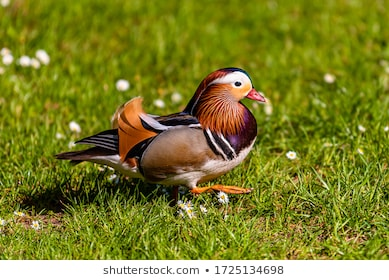duck: (38, 47, 288, 213)
